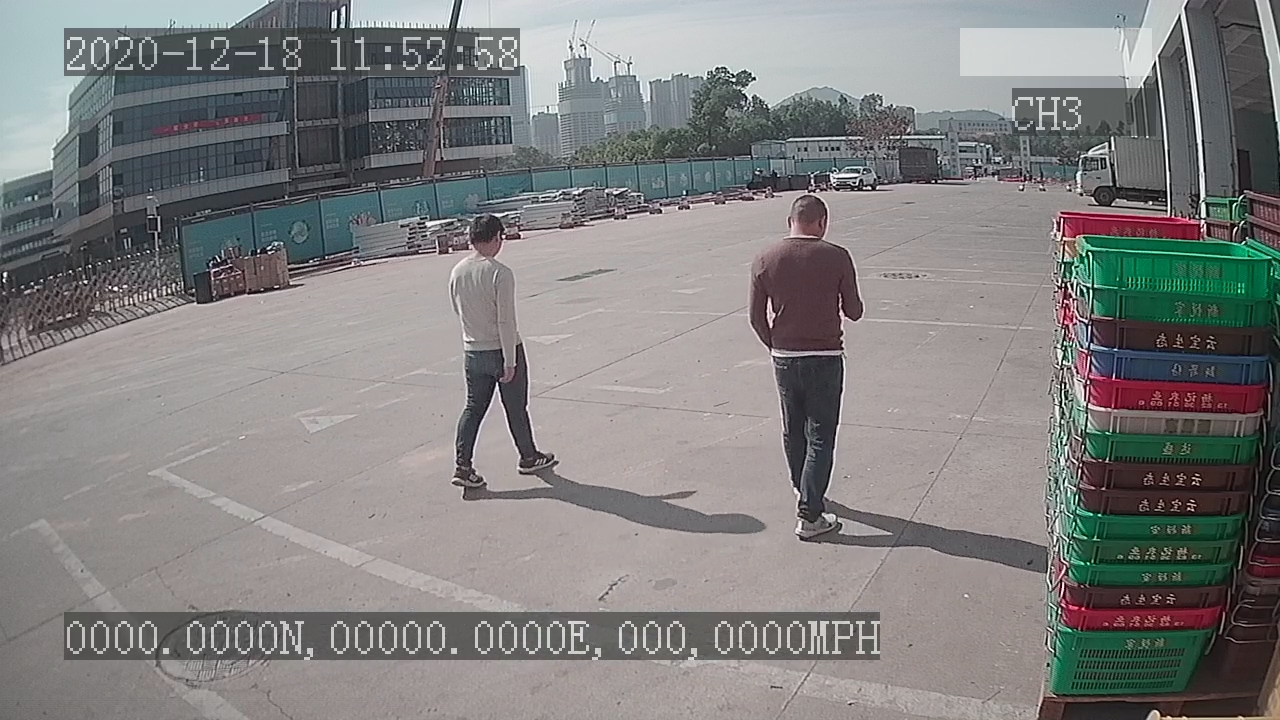person: (742, 186, 865, 547), (438, 210, 561, 497)
